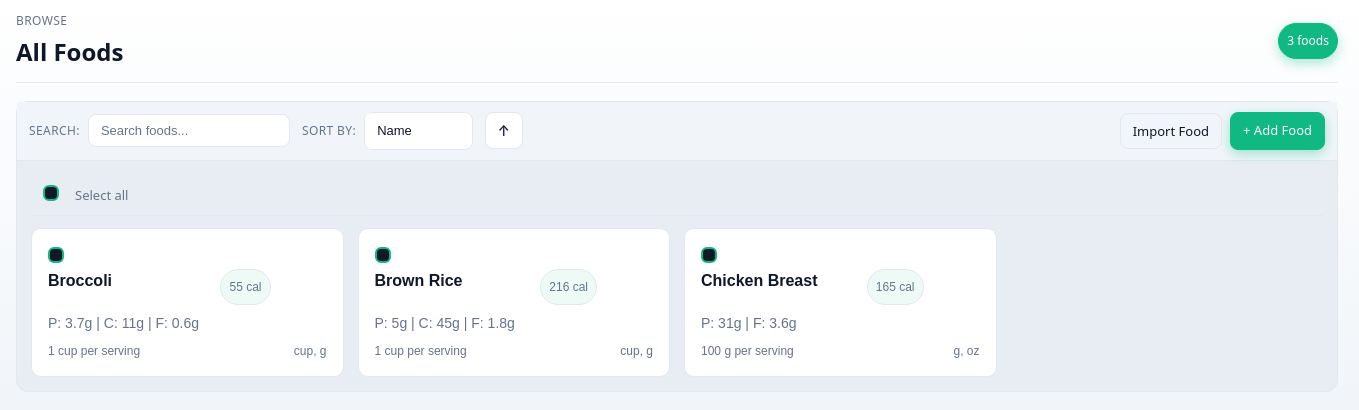
Test: Foods List Page › Selection › selects all foods when "Select all" is clicked
Click the 1st checkbox labelled "Select all" at (86, 196), box [43,184,128,206]
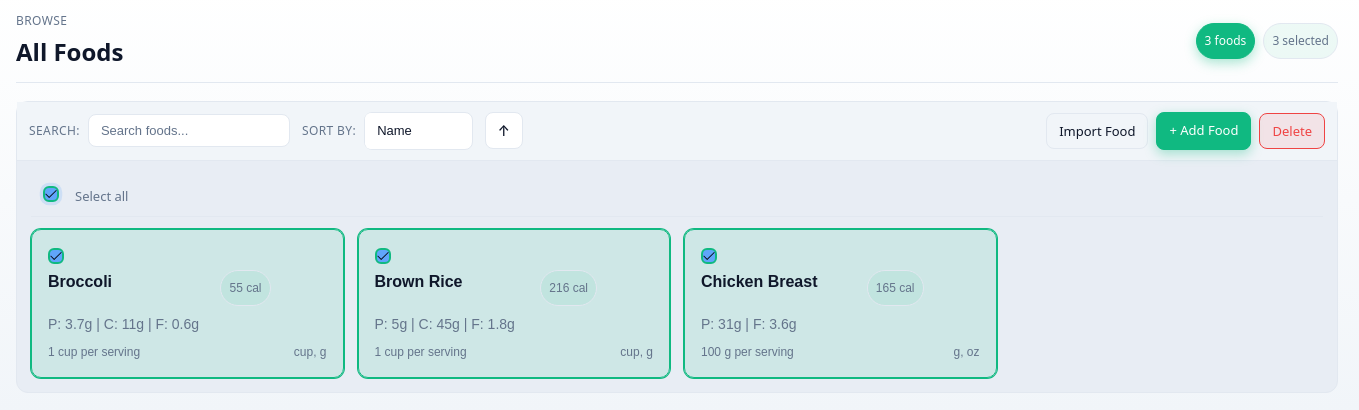
Check: the 1st checkbox labelled "Select all" is checked, box [43,186,128,208]
Check: the text "3 selected" is shown, box [1263,23,1338,59]
